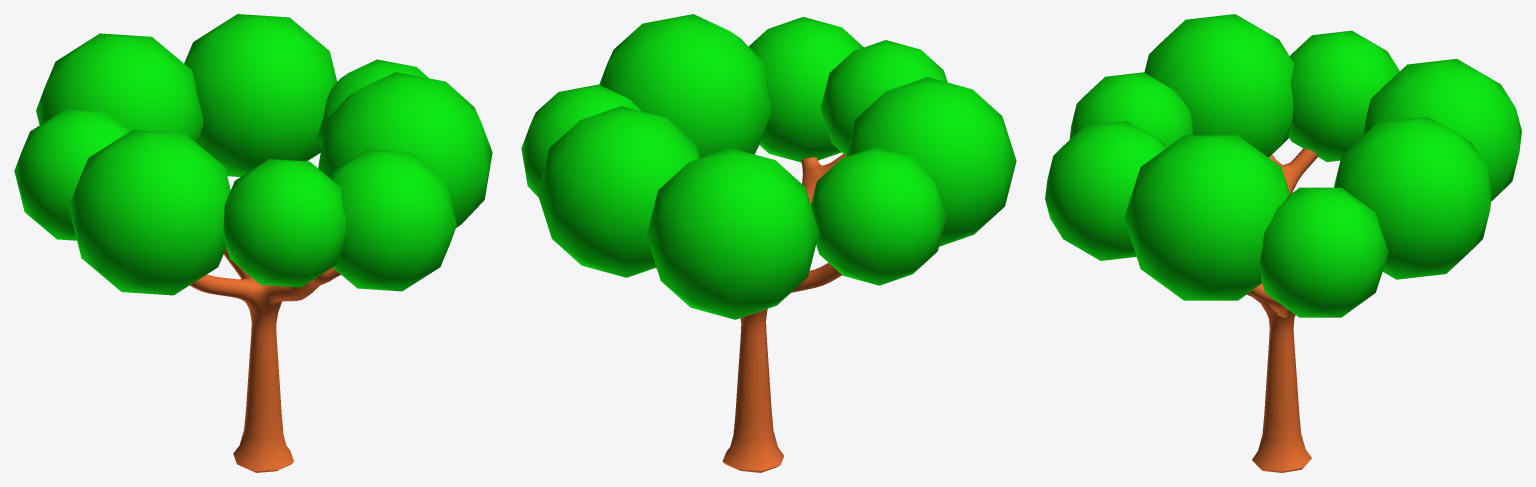
The model's file is newtreetestprototype 1.fbx.
3 renders of one model, left to right at view 1: azimuth 30°, elevation 25°; view 2: azimuth 150°, elevation 25°; view 3: azimuth 270°, elevation 25°, orthographic. The views are drawn at different scales.
Visible parts, largest first — view 1: tree_LOD0; view 2: tree_LOD0; view 3: tree_LOD0.
Part boxes in pixels (box(x1,y1,x2,y2)): tree_LOD0: box(14, 14, 492, 472); tree_LOD0: box(521, 14, 1016, 472); tree_LOD0: box(1045, 14, 1521, 472).
Size of what is drawn, in the model's own units: 1113 by 987 by 1136.
